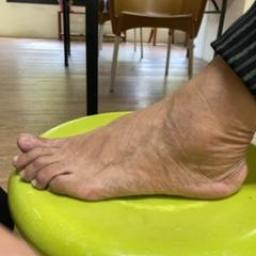Lateral View -Left Foot-: (3, 86, 255, 216)
